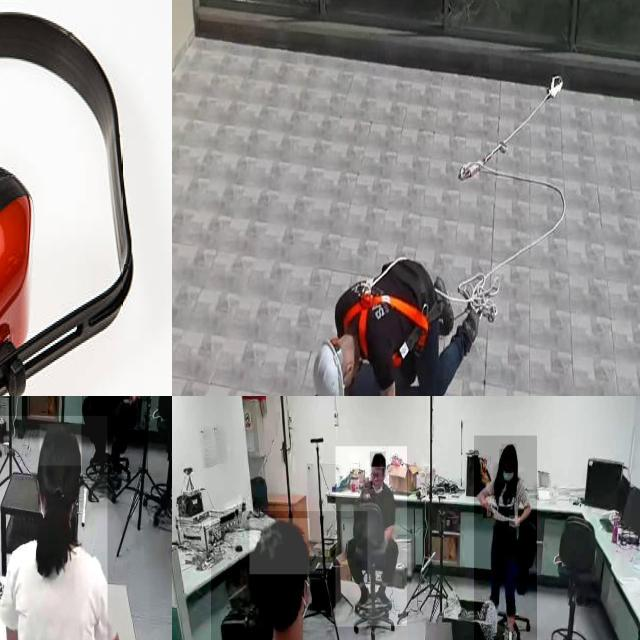Ear-protection: (0, 5, 140, 396)
Harness: (452, 77, 567, 322), (344, 295, 429, 360)
face_mask: (499, 449, 515, 494)
face_nomask: (370, 468, 384, 490)
hand_noglove: (483, 503, 493, 519), (509, 516, 521, 527)
head_nohelmet: (250, 518, 310, 575), (40, 424, 82, 466), (370, 452, 386, 468), (501, 444, 517, 458)
person: (0, 416, 108, 640), (211, 511, 368, 640), (336, 446, 408, 627), (474, 435, 537, 640), (81, 396, 148, 474)
shoes: (375, 578, 393, 612), (355, 583, 373, 610)
